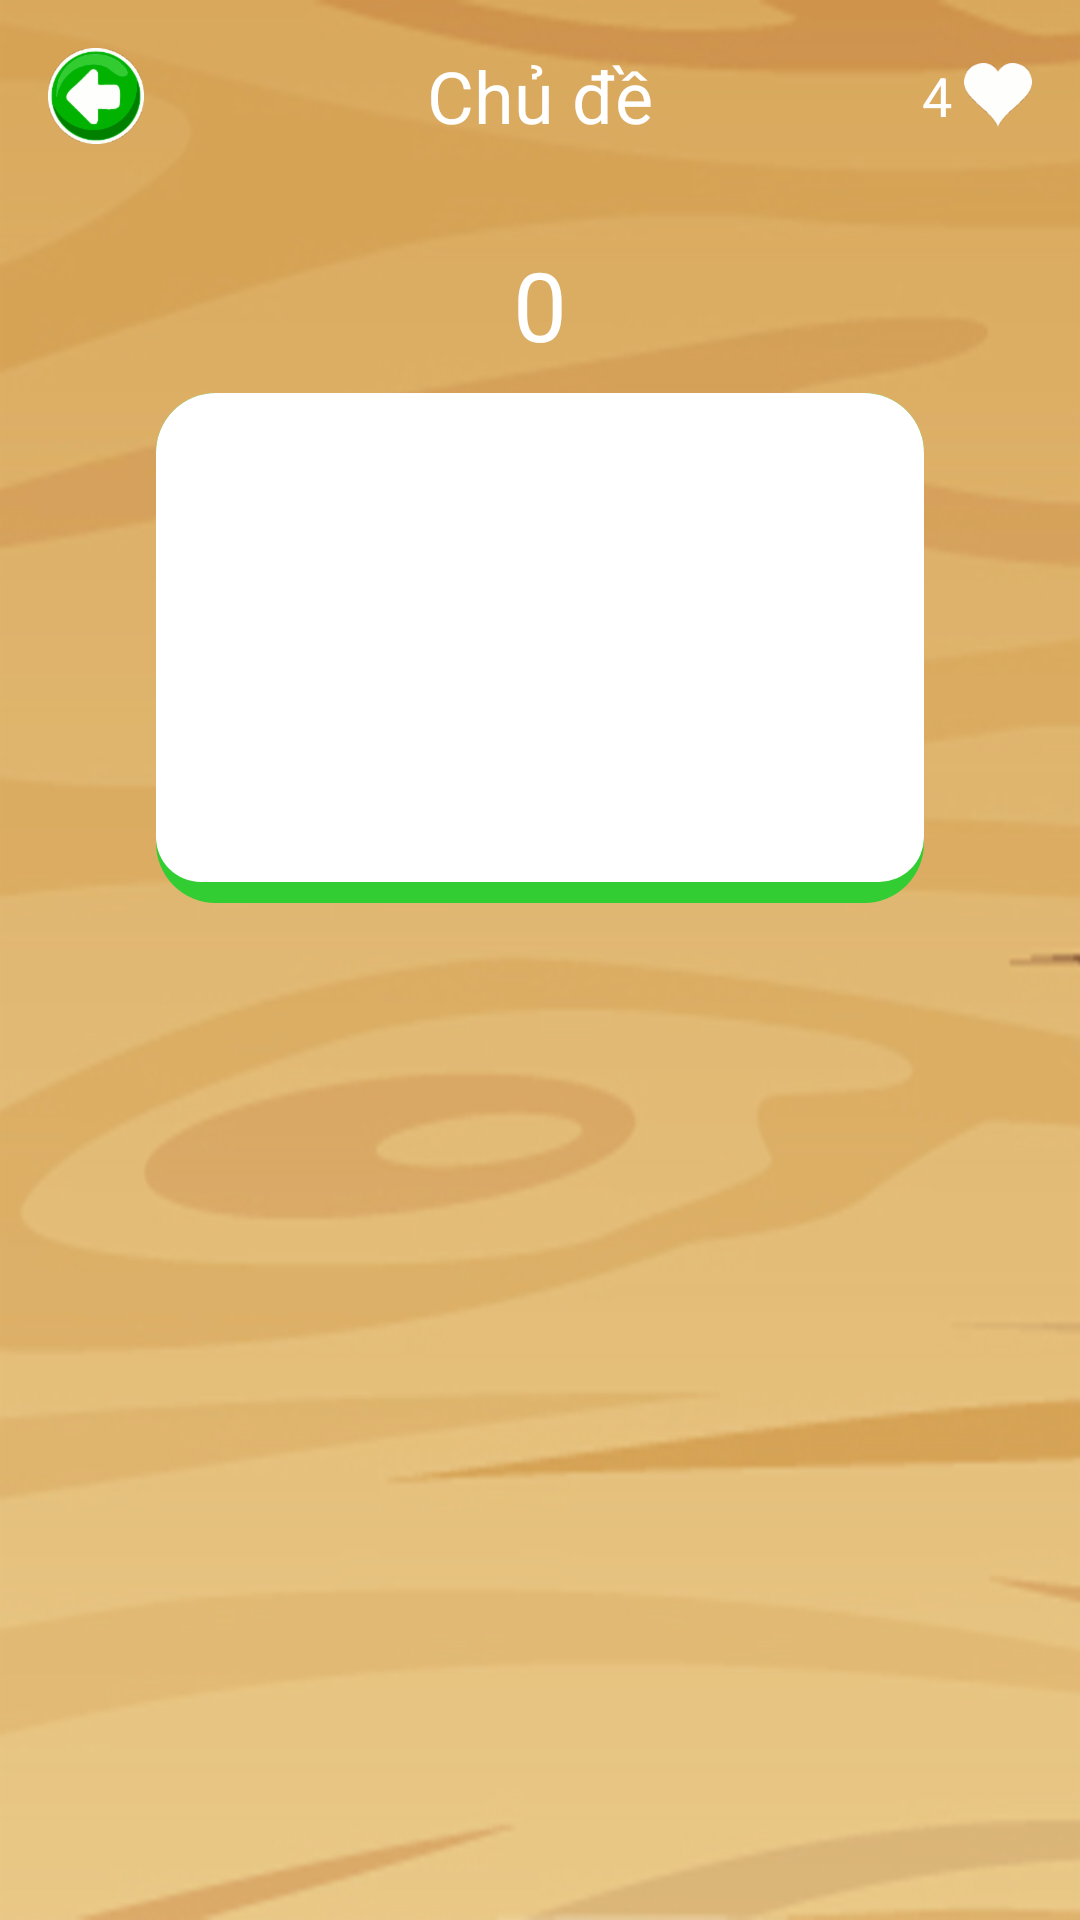

Icon bounding boxes for this 1080px x 1920px phone screenshot, format bbox=(x1, y1, x2, y2):
Image Back: bbox=(48, 48, 144, 144)
